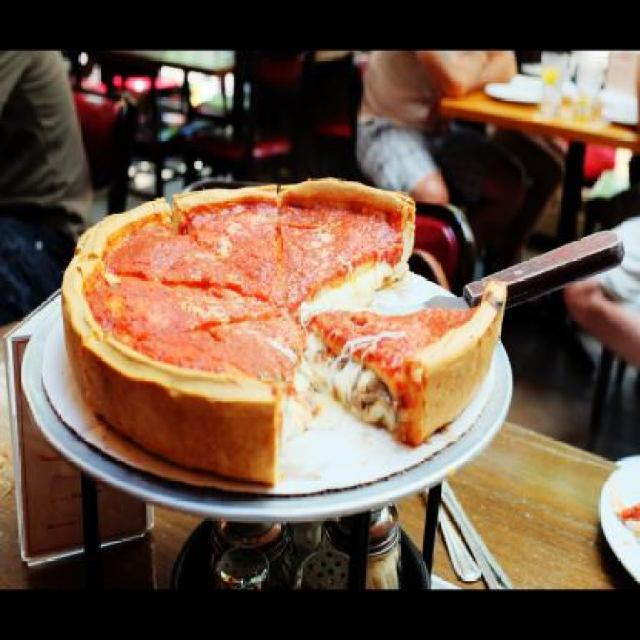Pizza: (54, 186, 503, 494)
